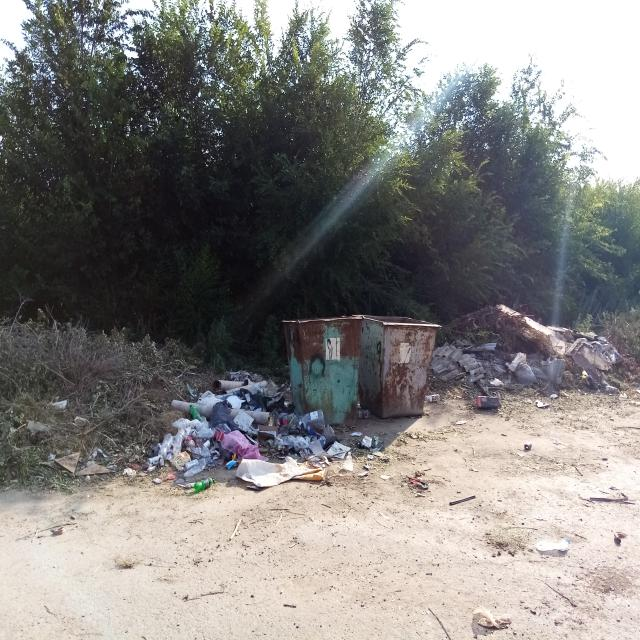bin: (280, 313, 443, 425)
trash: (132, 365, 394, 503), (438, 295, 633, 412)
